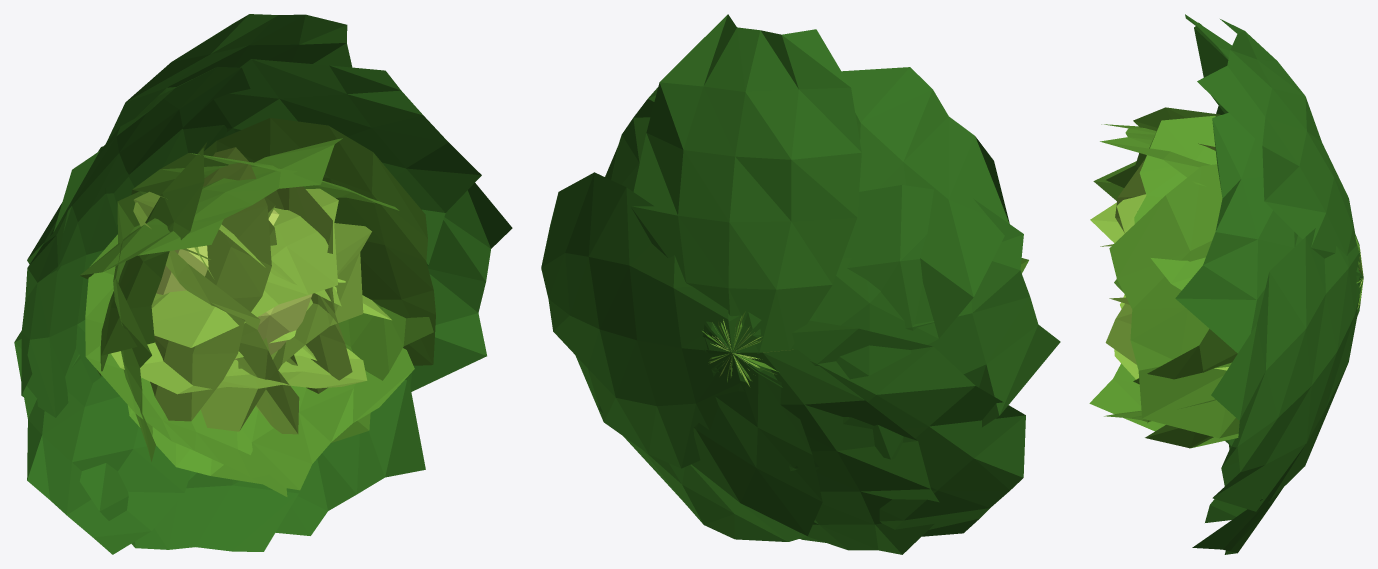
Rendered from lettuce_02.obj.
3 renders of one model, left to right at view 1: azimuth 30°, elevation 25°; view 2: azimuth 150°, elevation 25°; view 3: azimuth 270°, elevation 25°, orthographic. The views are drawn at different scales.
Visible parts, largest first — view 1: lettuce_02; view 2: lettuce_02; view 3: lettuce_02.
Boxes of the visible parts, <box> form: lettuce_02: <box>14,14,512,554</box>; lettuce_02: <box>541,14,1060,554</box>; lettuce_02: <box>1089,14,1363,554</box>.
Size of the model in its own units: 0.3173 by 0.3248 by 0.1615.
